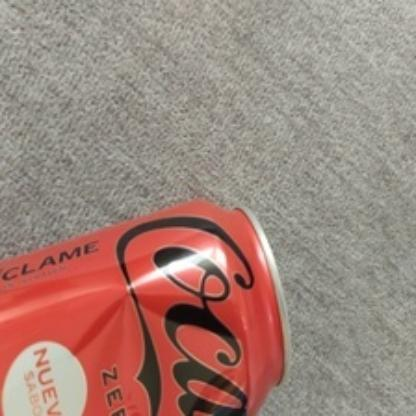Can: (0, 198, 294, 416)
